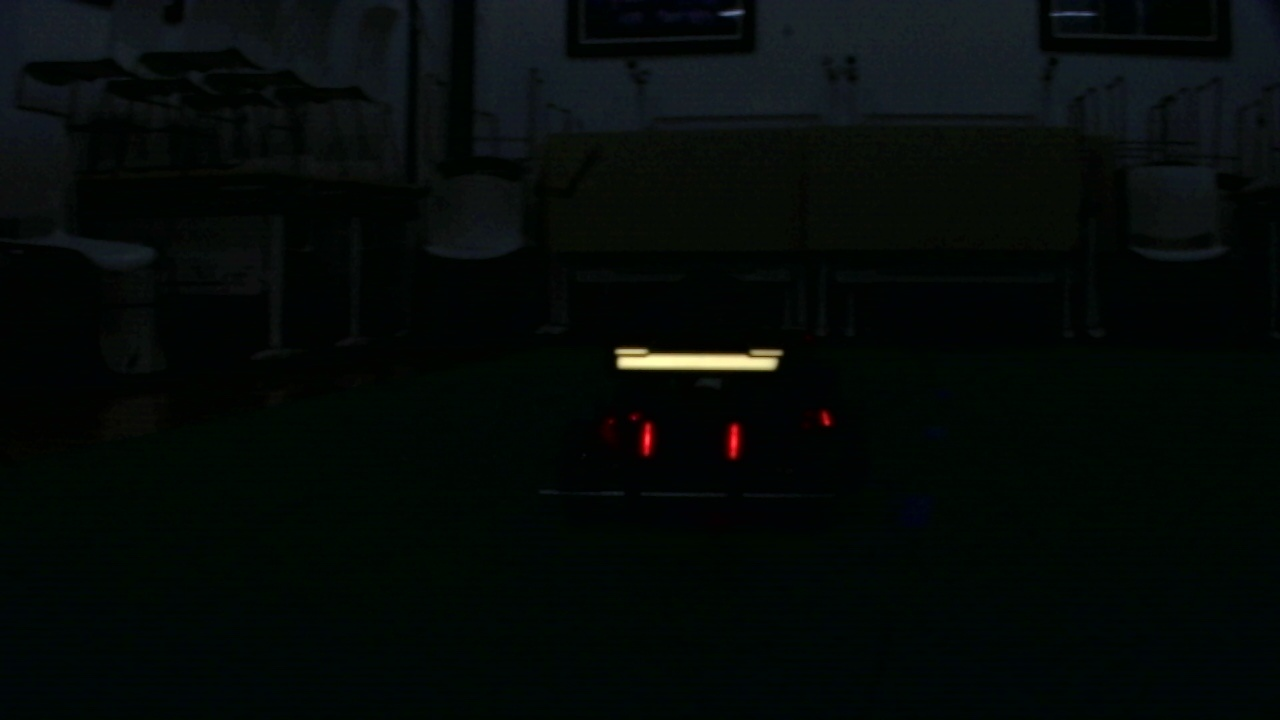lamp: (725, 423, 746, 460), (641, 424, 658, 460)
pair1: (642, 424, 744, 459)
